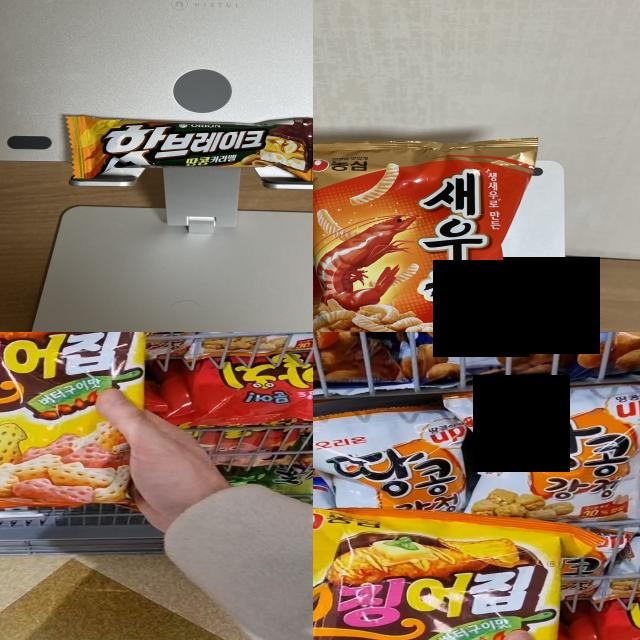hotBreak: (76, 119, 313, 173)
ozingZip: (313, 515, 554, 640), (0, 332, 144, 516)
shrimpGGang: (313, 144, 512, 332)
